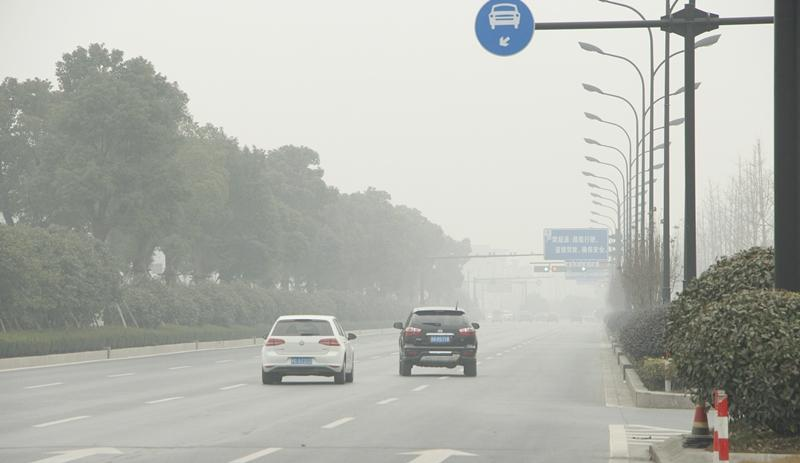car: (260, 313, 357, 388), (392, 305, 481, 380), (518, 310, 535, 323), (492, 307, 505, 323), (569, 312, 584, 324), (545, 312, 560, 323)
